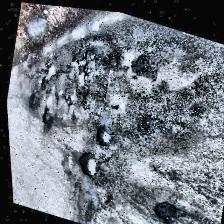pothole: (149, 194, 185, 222), (70, 46, 96, 78), (73, 147, 99, 177), (132, 108, 158, 136), (92, 124, 114, 146), (38, 104, 52, 124), (24, 91, 36, 109)
